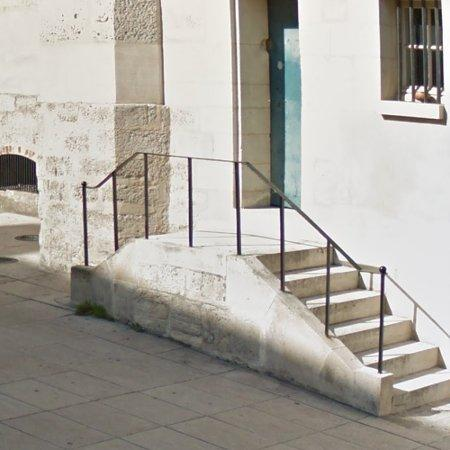stairs: (384, 307, 450, 410), (331, 266, 380, 369), (288, 249, 326, 323), (258, 256, 279, 276)
